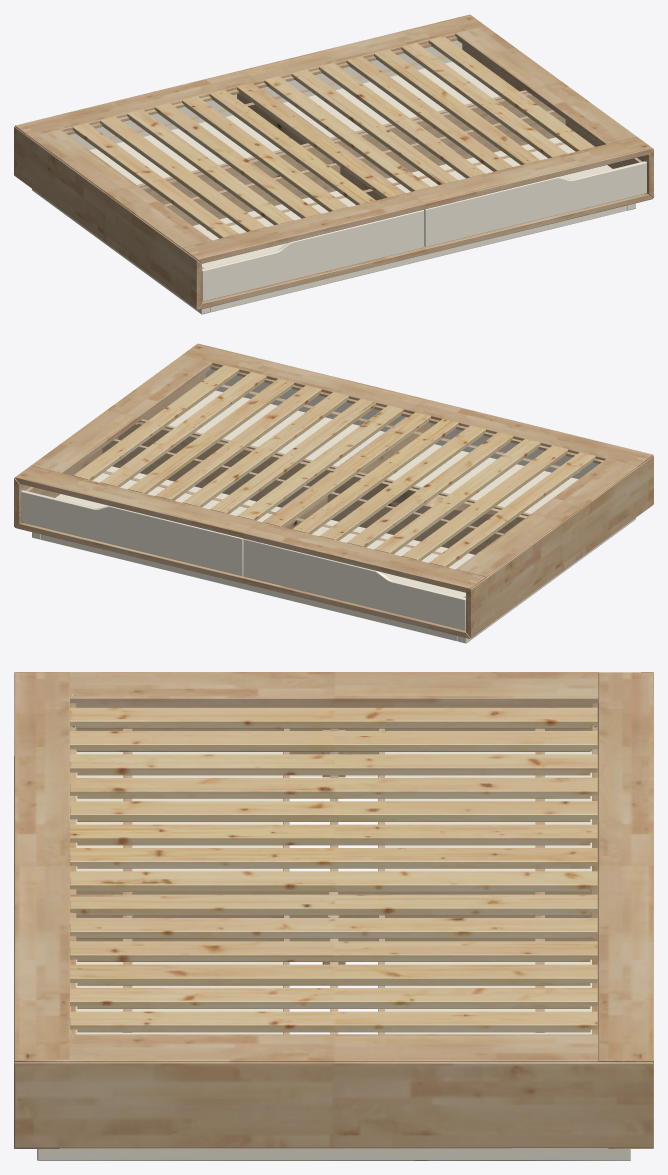
The model's file is MANDAL_30280481.glb.
3 renders of one model, top to bottom at view 1: azimuth 30°, elevation 25°; view 2: azimuth 150°, elevation 25°; view 3: azimuth 270°, elevation 25°, orthographic. The views are drawn at different scales.
Visible parts, largest first — view 1: model; view 2: model; view 3: model.
Part boxes in pixels (left/top/right/bottom): model: left=14, top=14, right=653, bottom=314; model: left=14, top=343, right=653, bottom=643; model: left=14, top=672, right=653, bottom=1160.
Bounding box in the file's own units: 2.02 × 0.265 × 1.4.
1 material, 1 textured.
